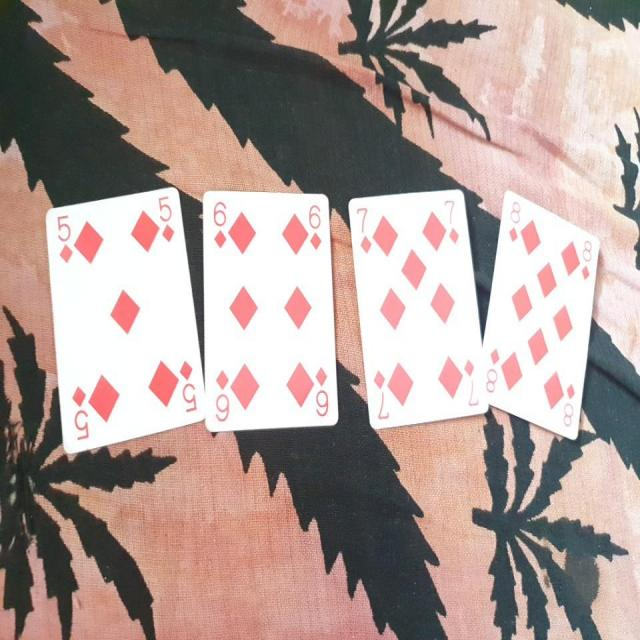5 Diamonds: (47, 184, 210, 455)
6 Diamonds: (203, 190, 342, 430)
7 Diamonds: (348, 188, 489, 430)
8 Diamonds: (481, 188, 601, 444)
